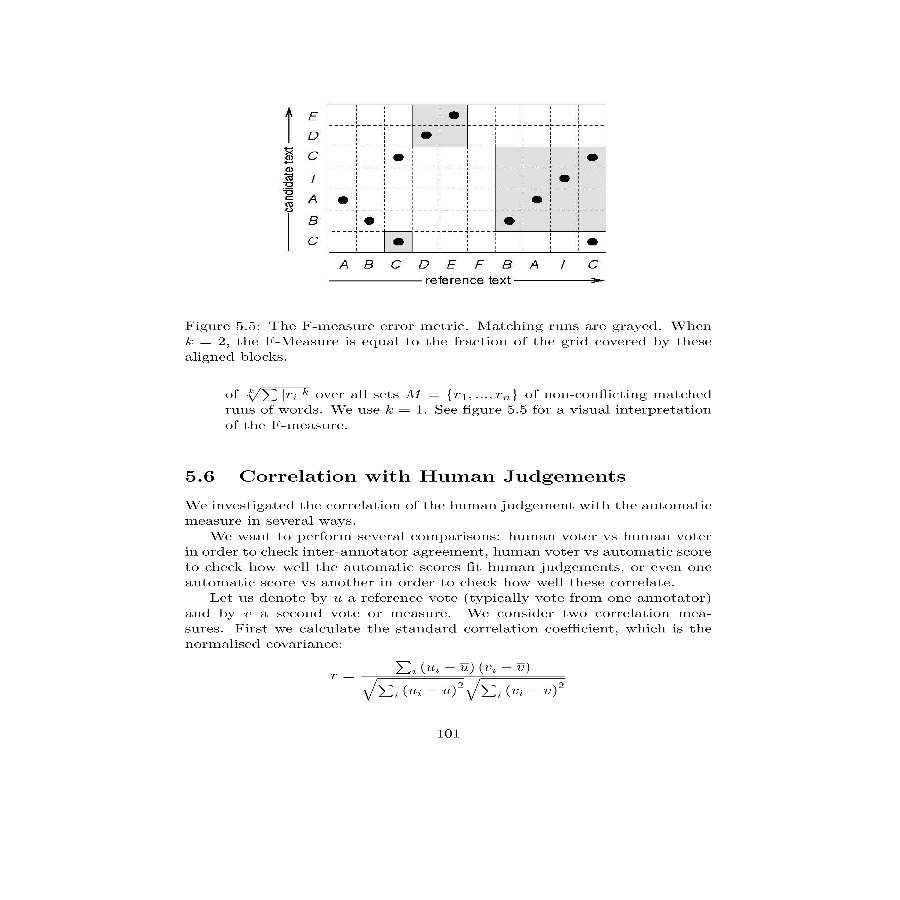eq: (322, 658, 570, 702)
